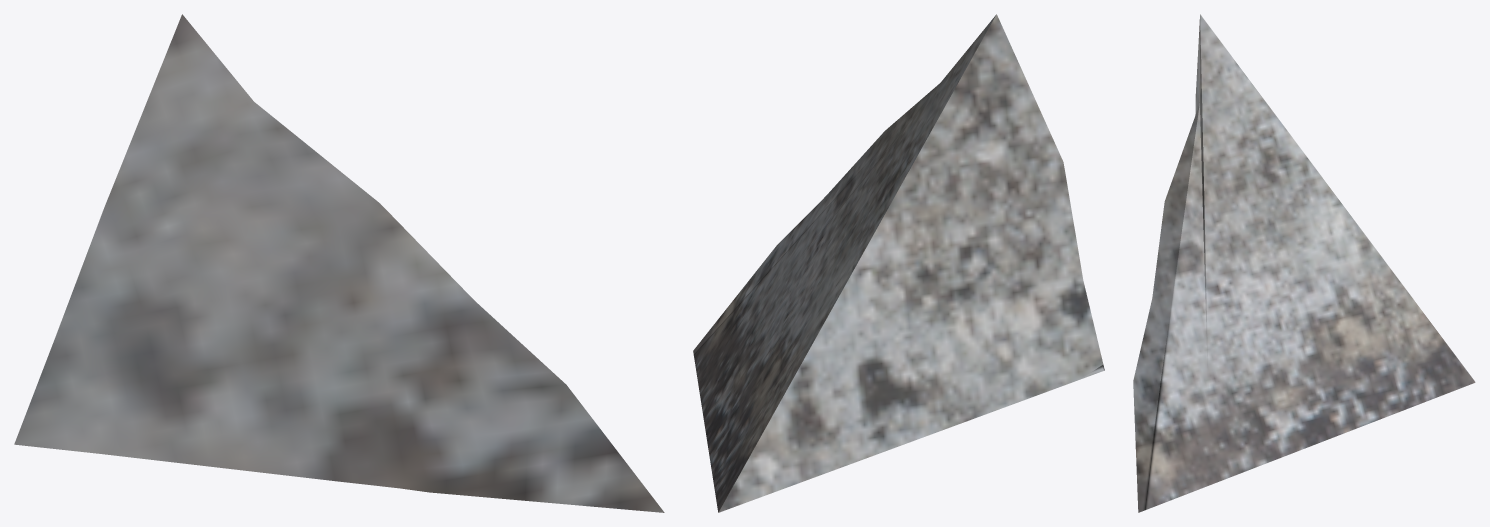
File: Asteroid_Large_001_02_009_03_035.fbx
The picture shows the model from 3 angles, left to right: view 1: azimuth 30°, elevation 25°; view 2: azimuth 150°, elevation 25°; view 3: azimuth 270°, elevation 25°; orthographic projection. The views are drawn at different scales.
Visible parts, largest first — view 1: Asteroid_Large_001_02_009_03_035; view 2: Asteroid_Large_001_02_009_03_035; view 3: Asteroid_Large_001_02_009_03_035.
Boxes of the visible parts, x1,y1,x2,y2 form: Asteroid_Large_001_02_009_03_035: (14,14,664,512); Asteroid_Large_001_02_009_03_035: (693,14,1104,512); Asteroid_Large_001_02_009_03_035: (1133,14,1475,512).
Size of the model in its own units: 5.68 by 5.27 by 4.5.
